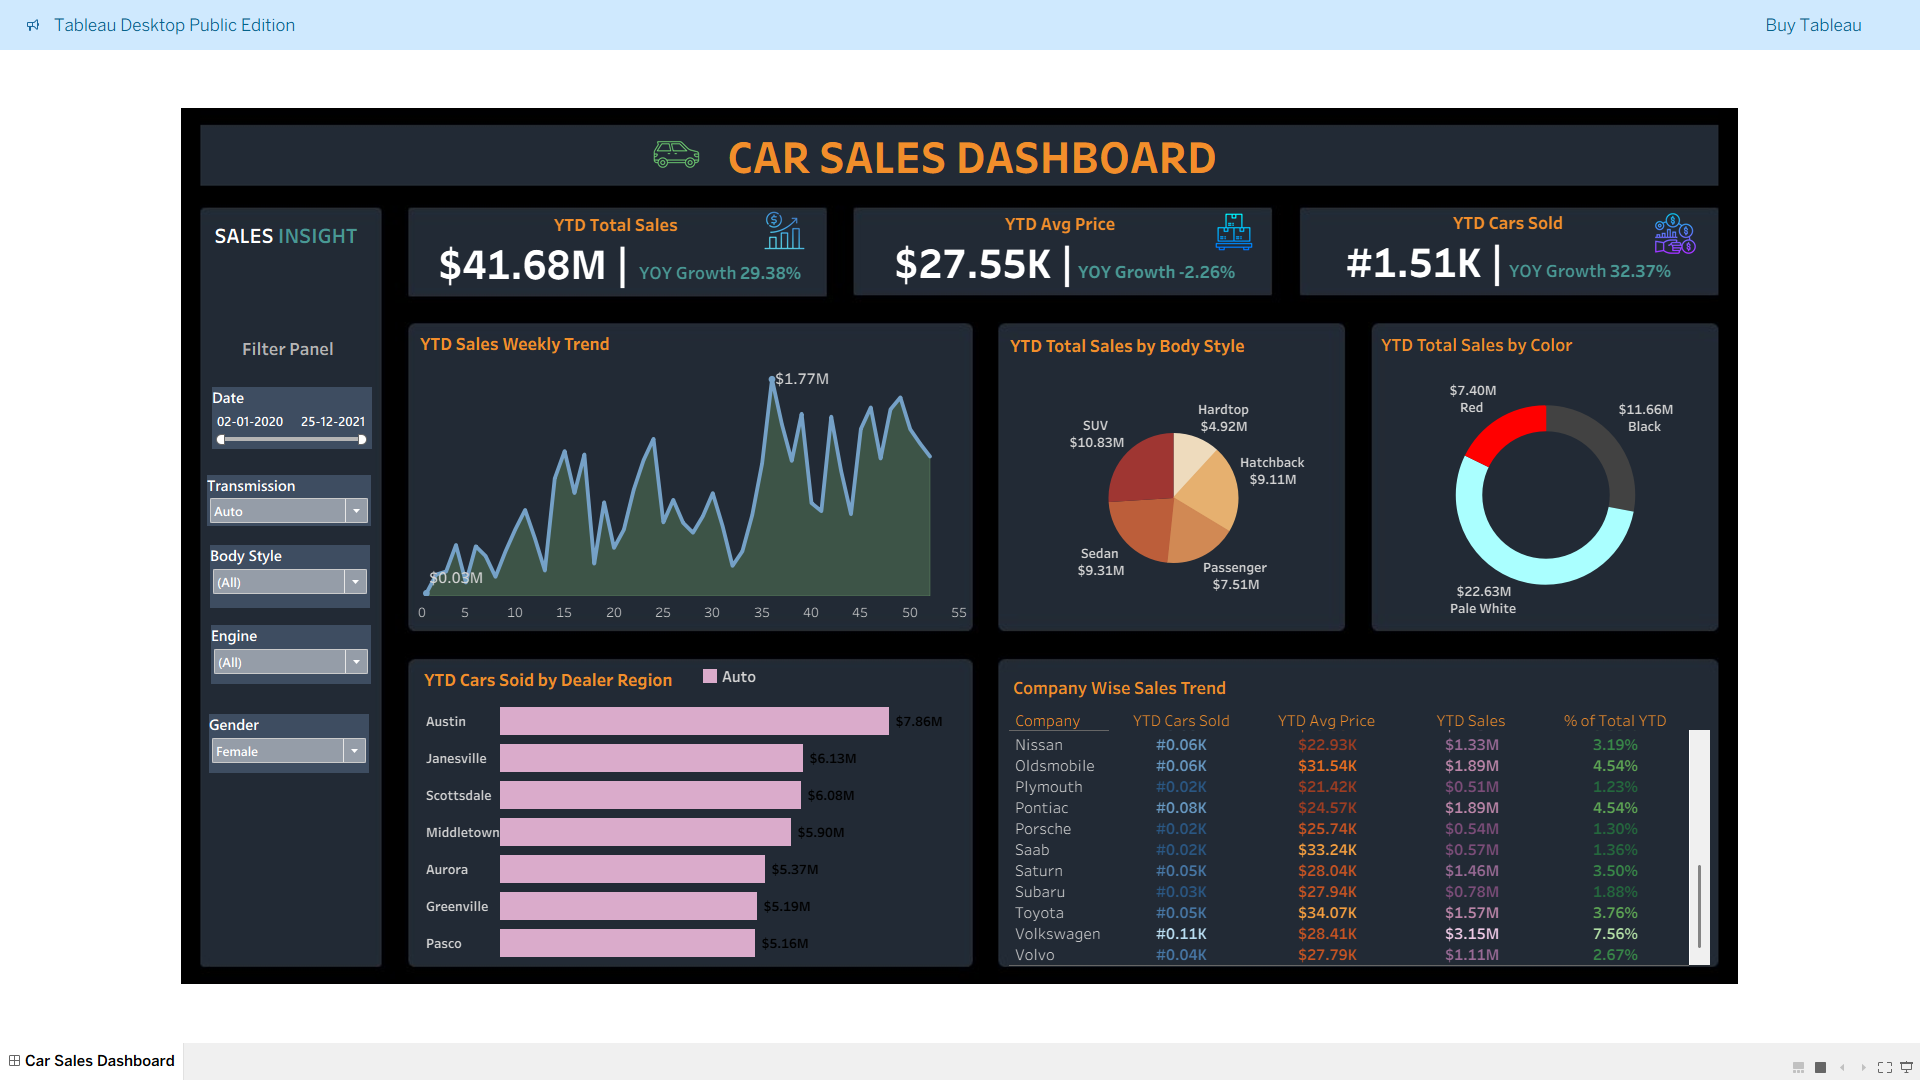

Layout of this report page (visuals, bound fields, positions):
{"tool":"tableau","page":{"name":"Car Sales Dashboard","canvas":[1600,900],"ordinal":0},"visuals":[{"type":"image","param":"Image/Car Sales Background.jpg","box":[8,8,1584,884]},{"type":"image","param":"Image/Car Icon.png","box":[483,31,67,54]},{"type":"text","box":[564,34,497,50]},{"type":"worksheet","title":"Date Range","mark":"Automatic","box":[1318,40,233,36]},{"type":"image","param":"Image/Sales Icon.png","box":[589,112,71,44]},{"type":"worksheet","title":"YTD Total Sales","mark":"Automatic","box":[250,113,412,86]},{"type":"worksheet","title":"YTD Cars Sold","mark":"Automatic","box":[1143,114,413,80]},{"type":"worksheet","title":"YTD Avg Price","mark":"Automatic","box":[698,115,406,79]},{"type":"image","param":"Image/Avg Price Icon.png","box":[1047,116,53,39]},{"type":"image","param":"Image/Cars Sold Icon.png","box":[1482,116,66,42]},{"type":"text","box":[51,124,150,30]},{"type":"worksheet","title":"YTD Sales Weekly Trend","mark":"Area","rows":["Calculation_744782801215340544","Calculation_744782801215340544"],"cols":["Date"],"box":[256,232,553,298]},{"type":"worksheet","title":"YTD Total Sales by Color ","mark":"Circle","cols":["Calculation_702561554973933569","Calculation_702561554973970435"],"box":[1217,232,337,295]},{"type":"worksheet","title":"YTD Total Sales by Body Style","mark":"Pie","box":[846,234,335,298]},{"type":"text","box":[53,237,150,30]},{"type":"filter","title":"YTD Sales Weekly Trend","param":"[federated.11rixh40ydwsw212812fw0ff7sbr].[none:Date:qk]","box":[52,291,160,62]},{"type":"filter","title":"YTD Sales Weekly Trend","param":"[federated.11rixh40ydwsw212812fw0ff7sbr].[none:Transmission:nk]","box":[47,379,164,51]},{"type":"filter","title":"YTD Sales Weekly Trend","param":"[federated.11rixh40ydwsw212812fw0ff7sbr].[none:Body Style:nk]","box":[50,449,160,63]},{"type":"filter","title":"YTD Sales Weekly Trend","param":"[federated.11rixh40ydwsw212812fw0ff7sbr].[none:Engine:nk]","box":[51,529,160,59]},{"type":"worksheet","title":"YTD Cars Soid by Dealer Region","mark":"Automatic","rows":["Dealer_Region"],"cols":["Calculation_744782801215340544"],"box":[260,568,546,297]},{"type":"legend","title":"YTD Cars Soid by Dealer Region","param":"[federated.11rixh40ydwsw212812fw0ff7sbr].[none:Transmission:nk]","box":[540,570,267,26]},{"type":"worksheet","title":"Company Wise Sales Trend","mark":"Automatic","rows":["Company"],"box":[849,575,701,295]},{"type":"filter","title":"YTD Sales Weekly Trend","param":"[federated.11rixh40ydwsw212812fw0ff7sbr].[none:Gender:nk]","box":[49,618,160,59]}]}

Visuals, with their boxes on the page's 1600x900 design canvas (x1, y1, x2, y2). These are canvas units, not pixel positions in the 1920x1080 screenshot, which may show the page scaled, cropped or inside an application window:
image: BBox(8, 8, 1592, 892)
image: BBox(483, 31, 550, 85)
text: BBox(564, 34, 1061, 84)
"Date Range" worksheet: BBox(1318, 40, 1551, 76)
image: BBox(589, 112, 660, 156)
"YTD Total Sales" worksheet: BBox(250, 113, 662, 199)
"YTD Cars Sold" worksheet: BBox(1143, 114, 1556, 194)
"YTD Avg Price" worksheet: BBox(698, 115, 1104, 194)
image: BBox(1047, 116, 1100, 155)
image: BBox(1482, 116, 1548, 158)
text: BBox(51, 124, 201, 154)
"YTD Sales Weekly Trend" worksheet (Area marks): BBox(256, 232, 809, 530)
"YTD Total Sales by Color " worksheet (Circle marks): BBox(1217, 232, 1554, 527)
"YTD Total Sales by Body Style" worksheet (Pie marks): BBox(846, 234, 1181, 532)
text: BBox(53, 237, 203, 267)
"YTD Sales Weekly Trend" filter: BBox(52, 291, 212, 353)
"YTD Sales Weekly Trend" filter: BBox(47, 379, 211, 430)
"YTD Sales Weekly Trend" filter: BBox(50, 449, 210, 512)
"YTD Sales Weekly Trend" filter: BBox(51, 529, 211, 588)
"YTD Cars Soid by Dealer Region" worksheet: BBox(260, 568, 806, 865)
"YTD Cars Soid by Dealer Region" legend: BBox(540, 570, 807, 596)
"Company Wise Sales Trend" worksheet: BBox(849, 575, 1550, 870)
"YTD Sales Weekly Trend" filter: BBox(49, 618, 209, 677)
